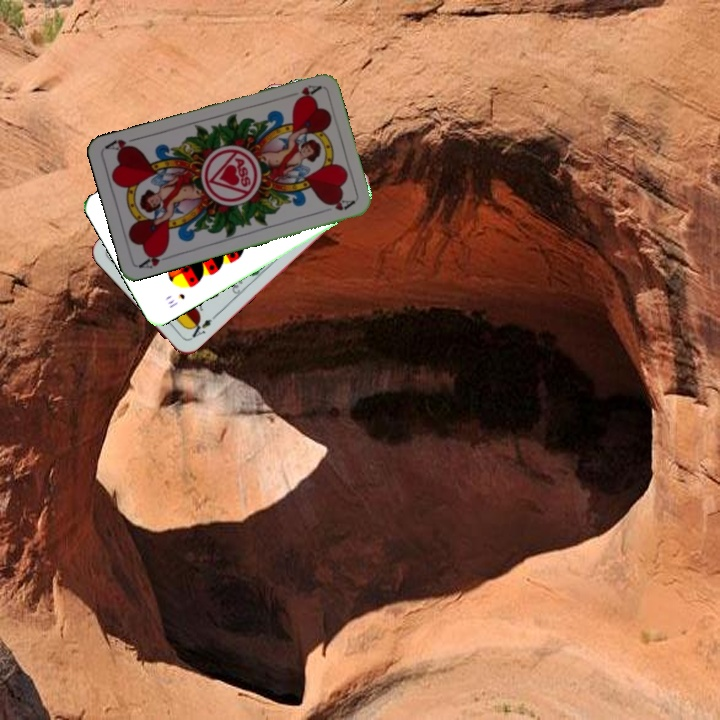EA: (185, 311, 219, 343)
HA: (135, 246, 175, 271), (292, 81, 323, 104)
S10: (164, 289, 188, 311)
